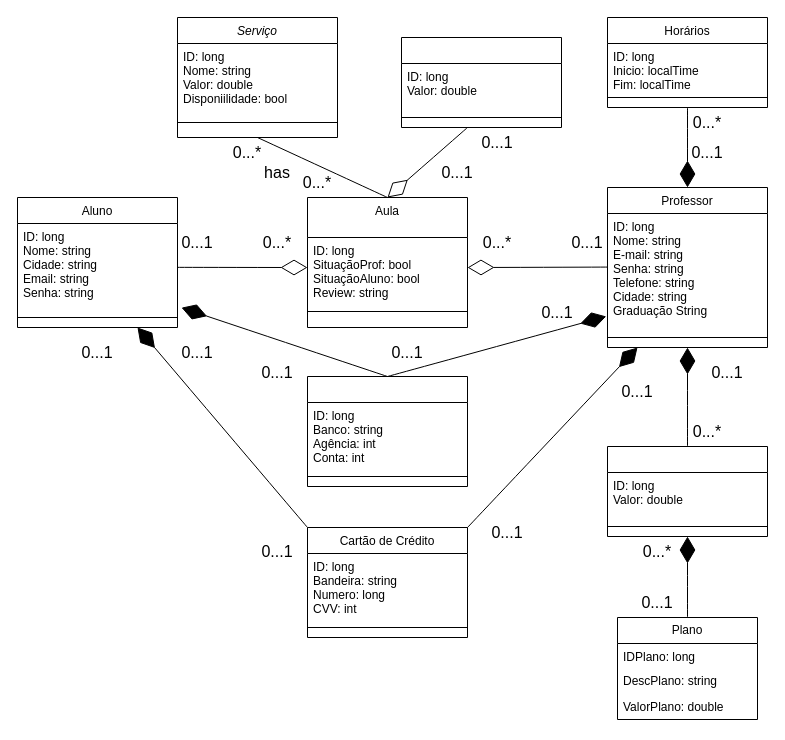
Some shapes in this 785 by 740 pixel diagram are drawn without their labels. Each missing label, with the box of its shape:
Dados Bancários: (306, 376, 468, 486)
Mensalidade: (606, 446, 768, 536)
PagAula: (400, 36, 562, 128)
